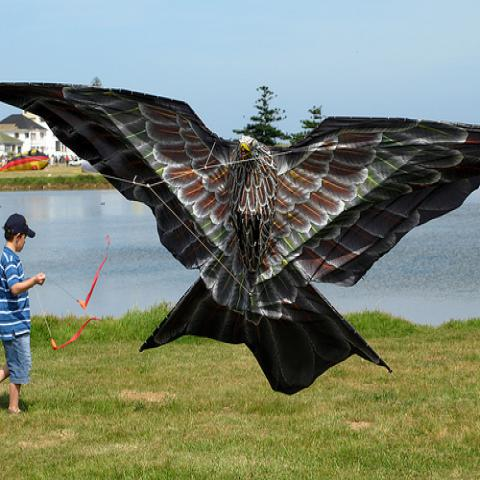car: (69, 158, 82, 167)
